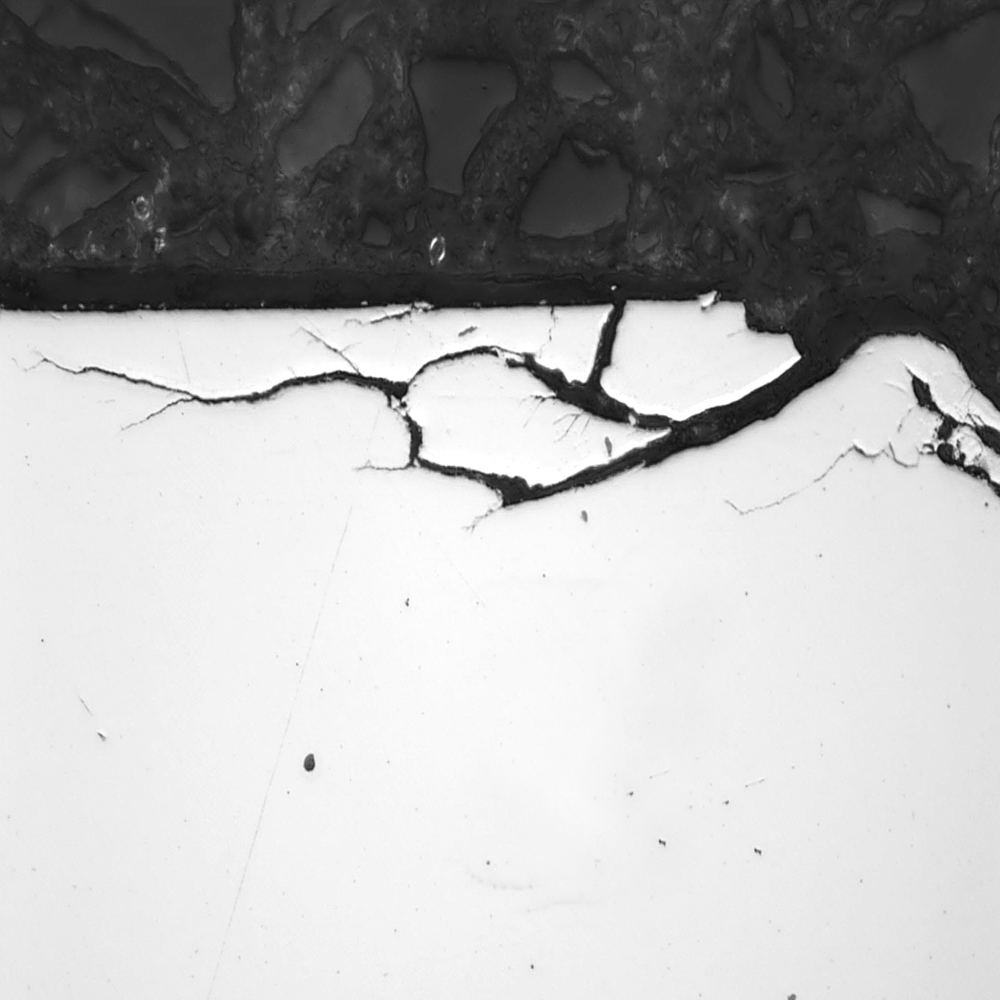crack: (34, 280, 979, 571)
